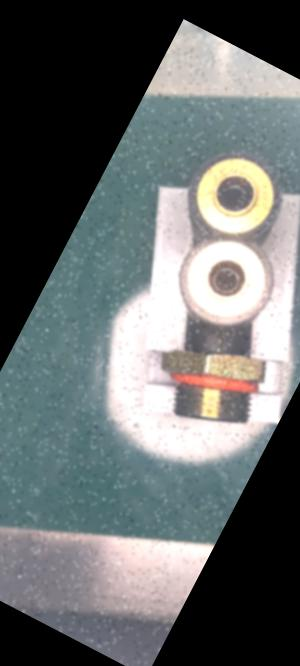craze: (210, 332, 229, 358)
